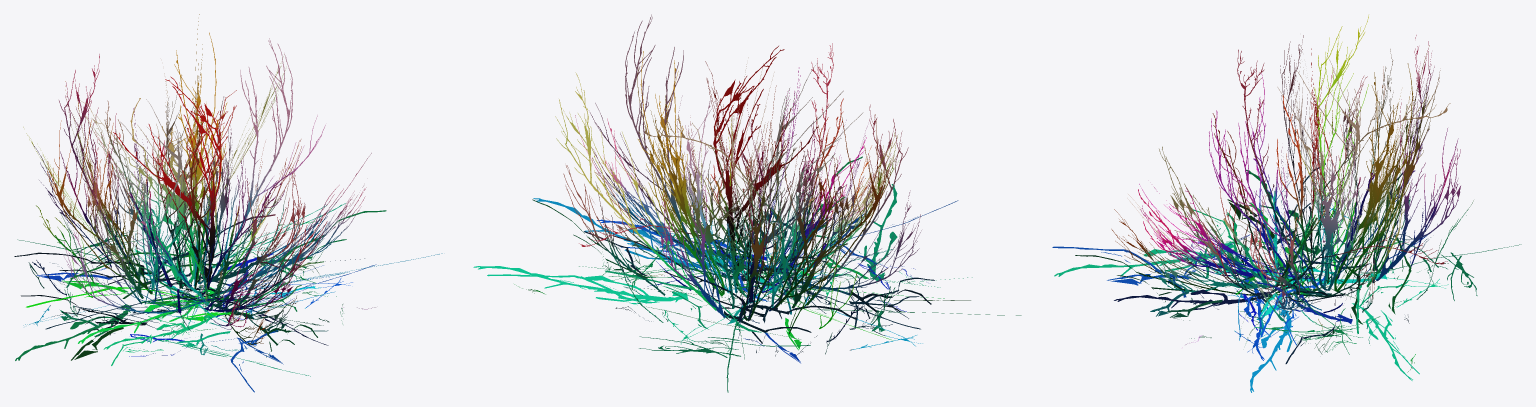
The model's file is Dead_Shrubs_vdknafgha_Raw_vdknafgha_VarG_LOD0.fbx.
3 views of the same model, side by side, from view 1: azimuth 30°, elevation 25°; view 2: azimuth 150°, elevation 25°; view 3: azimuth 270°, elevation 25° (orthographic). The views are drawn at different scales.
Parts seen in each view (by area): view 1: _6u26_VarG_High; view 2: _6u26_VarG_High; view 3: _6u26_VarG_High.
Part boxes in pixels (left/top/right/bottom): _6u26_VarG_High: left=14, top=14, right=442, bottom=392; _6u26_VarG_High: left=473, top=14, right=1021, bottom=392; _6u26_VarG_High: left=1052, top=15, right=1521, bottom=392.
Size of the model in its own units: 116 by 65.54 by 103.
